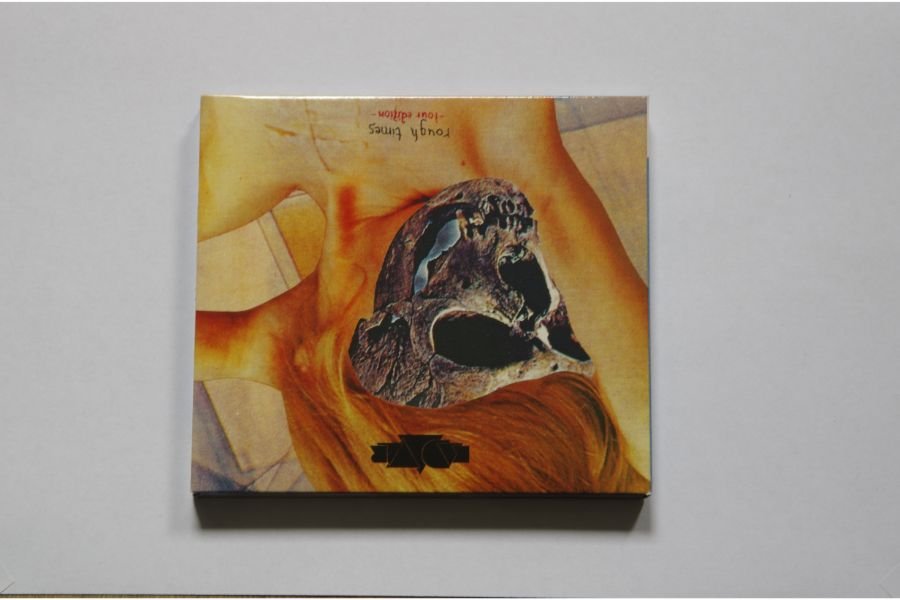album: (192, 94, 655, 496)
